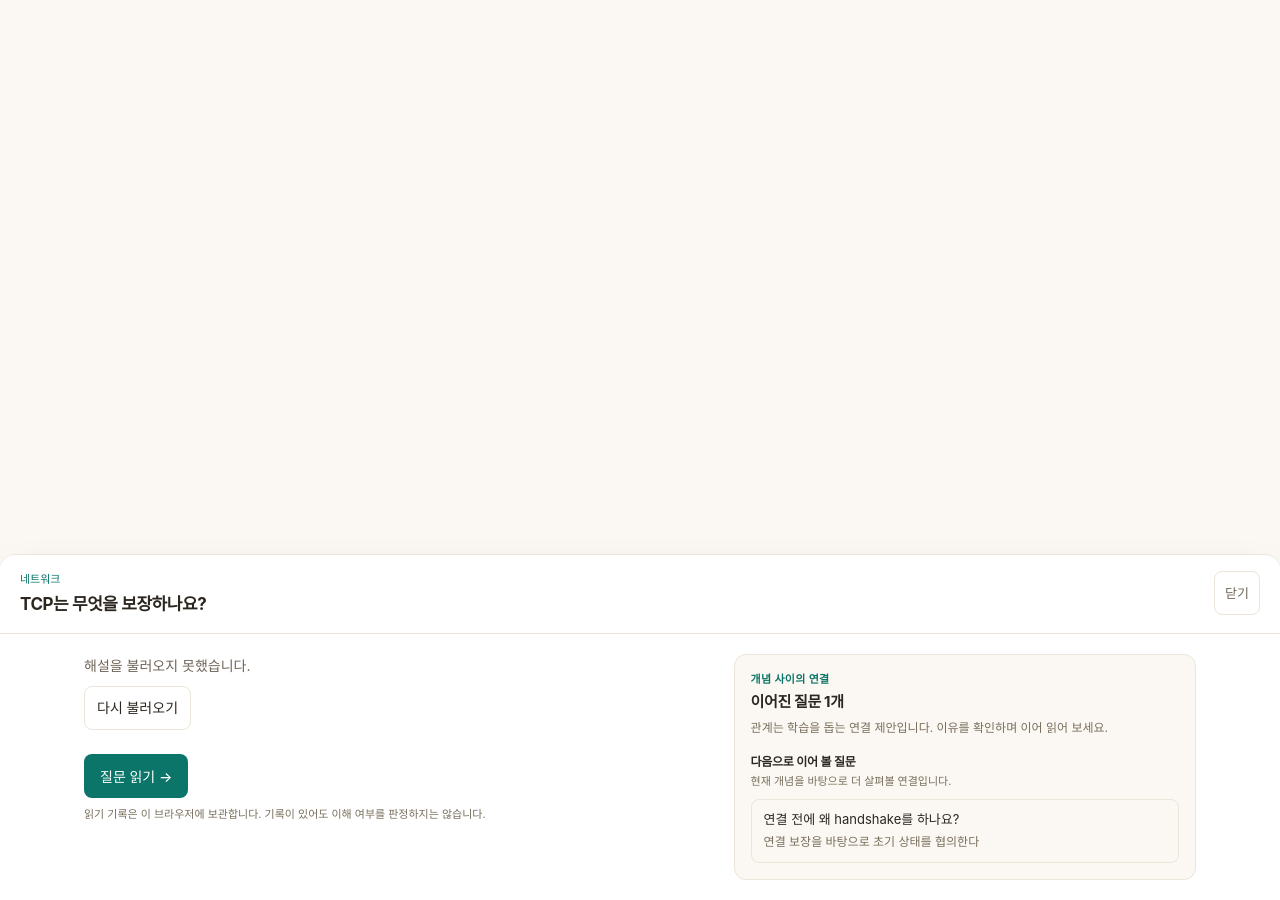
지도에서 연 해설과 기존 읽기 기록의 연결 › 실패한 읽기는 기록하지 않고 다시 불러오기가 성공한 뒤에만 기록한다
The image size is (1280, 900).
Click the button "다시 불러오기" at (138,708), box [84, 686, 191, 730]
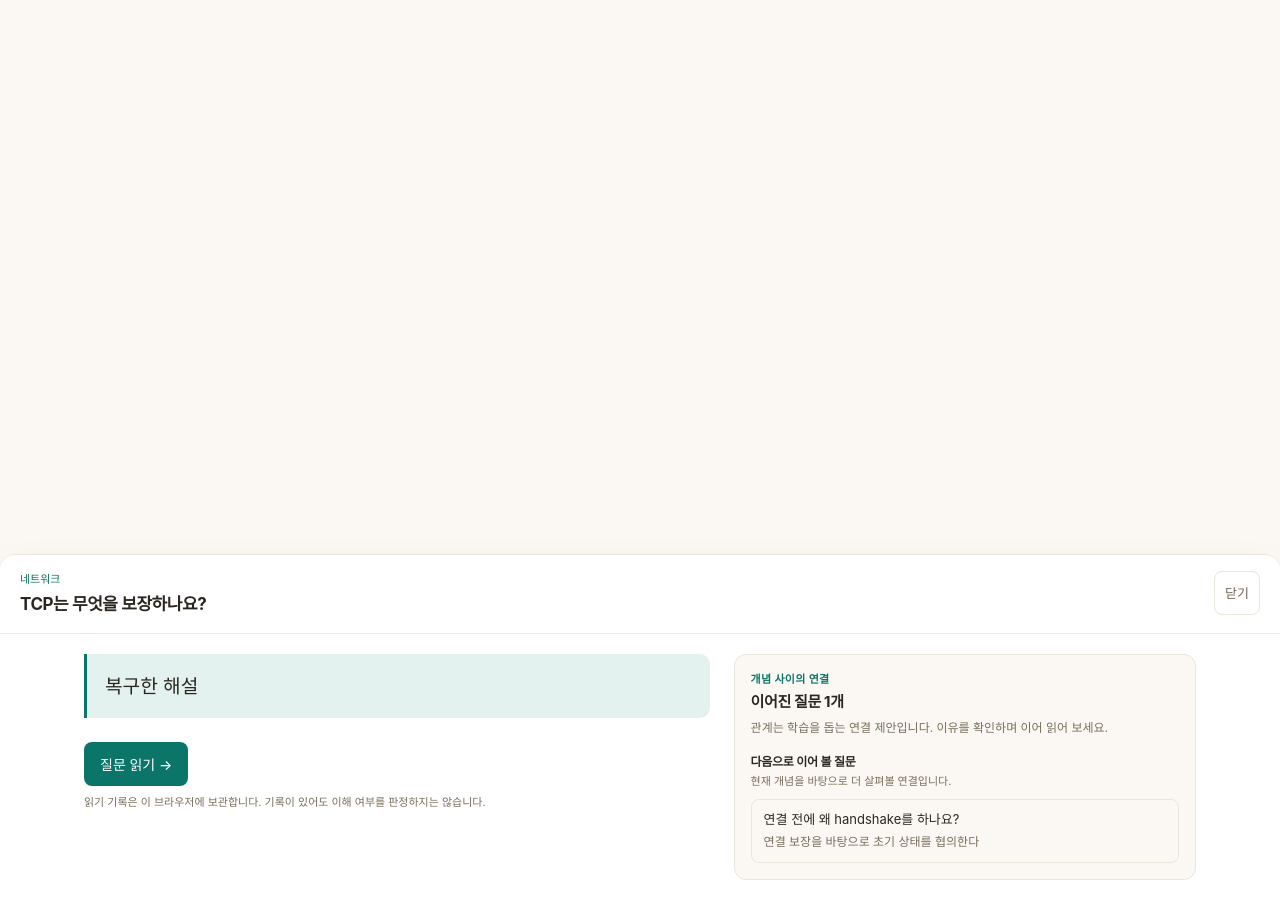
Now the text "복구한 해설" is shown, box [84, 654, 710, 718]
